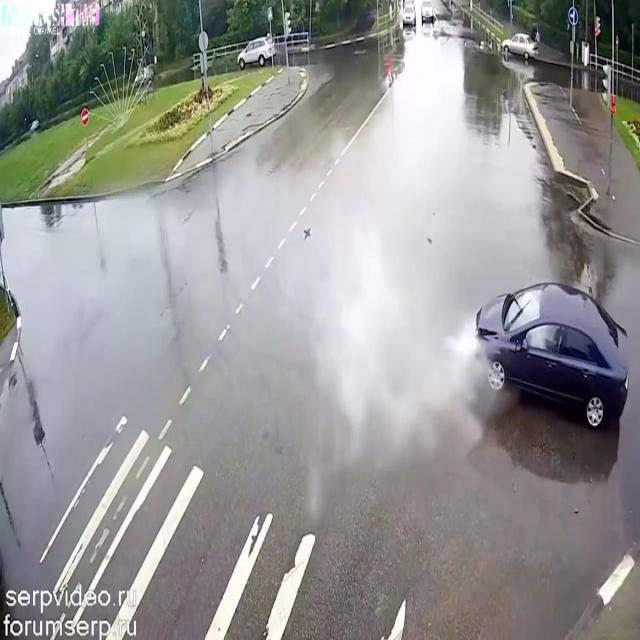accident: (438, 251, 638, 461)
